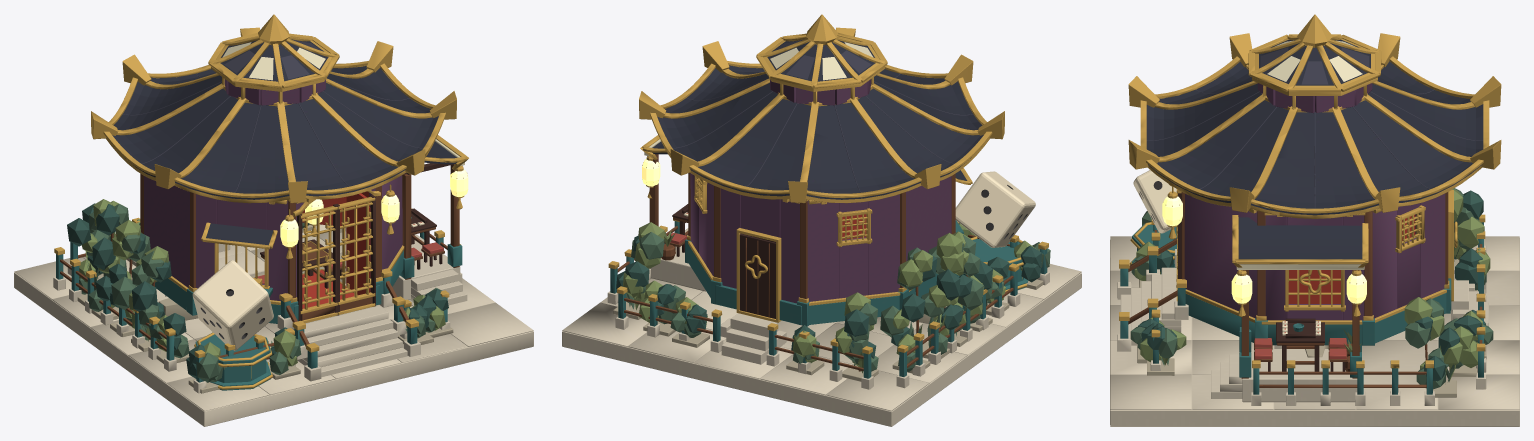
File: casino-lod0-633b916e3e61.glb
The picture shows the model from 3 angles, left to right: view 1: azimuth 30°, elevation 25°; view 2: azimuth 150°, elevation 25°; view 3: azimuth 270°, elevation 25°; orthographic projection. The views are drawn at different scales.
Parts seen in each view (by area): view 1: SM_QK18_C17_Batch_0, SM_QK18_C17_Batch_39, SM_QK18_C17_Batch_80, SM_QK18_C17_Batch_22, SM_QK18_C17_Batch_64, SM_QK18_C17_Batch_43, SM_QK18_C17_Batch_70, SM_QK18_C17_Batch_68, SM_QK18_C17_Batch_54, SM_QK18_C17_Batch_72, SM_QK18_C17_Batch_41, SM_QK18_C17_Batch_36 (+4 smaller); view 2: SM_QK18_C17_Batch_0, SM_QK18_C17_Batch_39, SM_QK18_C17_Batch_80, SM_QK18_C17_Batch_22, SM_QK18_C17_Batch_64, SM_QK18_C17_Batch_72, SM_QK18_C17_Batch_70, SM_QK18_C17_Batch_68, SM_QK18_C17_Batch_43, SM_QK18_C17_Batch_54, SM_QK18_C17_Batch_41, SM_QK18_C17_Batch_1 (+2 smaller); view 3: SM_QK18_C17_Batch_0, SM_QK18_C17_Batch_39, SM_QK18_C17_Batch_80, SM_QK18_C17_Batch_22, SM_QK18_C17_Batch_64, SM_QK18_C17_Batch_43, SM_QK18_C17_Batch_72, SM_QK18_C17_Batch_70, SM_QK18_C17_Batch_68, SM_QK18_C17_Batch_78, SM_QK18_C17_Batch_77, SM_QK18_C17_Batch_60 (+5 smaller).
Part boxes in pixels (left/top/right/bottom): SM_QK18_C17_Batch_0: left=14, top=224, right=533, bottom=426; SM_QK18_C17_Batch_39: left=112, top=39, right=457, bottom=245; SM_QK18_C17_Batch_80: left=54, top=14, right=468, bottom=389; SM_QK18_C17_Batch_22: left=144, top=79, right=402, bottom=301; SM_QK18_C17_Batch_64: left=56, top=217, right=462, bottom=390; SM_QK18_C17_Batch_43: left=60, top=164, right=459, bottom=359; SM_QK18_C17_Batch_70: left=67, top=203, right=448, bottom=378; SM_QK18_C17_Batch_68: left=79, top=204, right=448, bottom=382; SM_QK18_C17_Batch_54: left=192, top=221, right=424, bottom=350; SM_QK18_C17_Batch_72: left=79, top=199, right=445, bottom=366; SM_QK18_C17_Batch_41: left=260, top=163, right=453, bottom=320; SM_QK18_C17_Batch_36: left=302, top=191, right=421, bottom=308; SM_QK18_C17_Batch_0: left=562, top=228, right=1081, bottom=426; SM_QK18_C17_Batch_39: left=652, top=39, right=983, bottom=199; SM_QK18_C17_Batch_80: left=608, top=14, right=1048, bottom=354; SM_QK18_C17_Batch_22: left=690, top=79, right=951, bottom=303; SM_QK18_C17_Batch_64: left=610, top=220, right=1047, bottom=378; SM_QK18_C17_Batch_72: left=623, top=222, right=1036, bottom=373; SM_QK18_C17_Batch_70: left=616, top=235, right=1041, bottom=358; SM_QK18_C17_Batch_68: left=626, top=232, right=1050, bottom=371; SM_QK18_C17_Batch_43: left=617, top=154, right=1013, bottom=371; SM_QK18_C17_Batch_54: left=683, top=171, right=1035, bottom=247; SM_QK18_C17_Batch_41: left=672, top=204, right=775, bottom=318; SM_QK18_C17_Batch_1: left=613, top=279, right=1043, bottom=381; SM_QK18_C17_Batch_0: left=1110, top=236, right=1519, bottom=426; SM_QK18_C17_Batch_39: left=1146, top=39, right=1483, bottom=259; SM_QK18_C17_Batch_80: left=1119, top=14, right=1501, bottom=368; SM_QK18_C17_Batch_22: left=1184, top=83, right=1445, bottom=320; SM_QK18_C17_Batch_64: left=1120, top=222, right=1483, bottom=394; SM_QK18_C17_Batch_43: left=1128, top=192, right=1482, bottom=387; SM_QK18_C17_Batch_72: left=1134, top=189, right=1490, bottom=380; SM_QK18_C17_Batch_70: left=1138, top=190, right=1485, bottom=381; SM_QK18_C17_Batch_68: left=1130, top=188, right=1493, bottom=389; SM_QK18_C17_Batch_78: left=1147, top=47, right=1482, bottom=208; SM_QK18_C17_Batch_77: left=1236, top=40, right=1364, bottom=269; SM_QK18_C17_Batch_60: left=1162, top=196, right=1366, bottom=303.
Bounding box in the file's own units: 10 × 8.79 × 10.
Materials: 19 (10 with a texture image).
